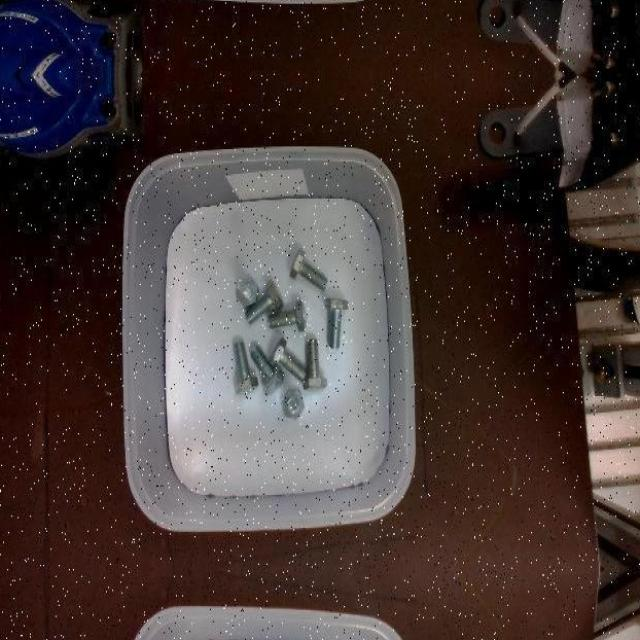screw: (250, 344, 284, 396), (290, 248, 328, 292), (268, 338, 306, 381), (246, 280, 284, 322), (232, 341, 260, 394), (303, 338, 328, 388), (268, 299, 306, 331), (325, 297, 349, 347), (281, 388, 305, 418), (236, 277, 259, 307)
